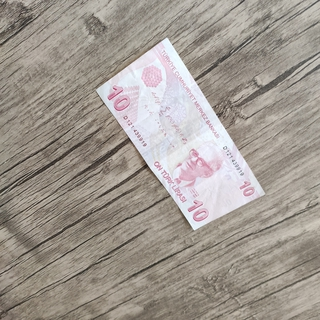10TLBack: (92, 35, 267, 232)
